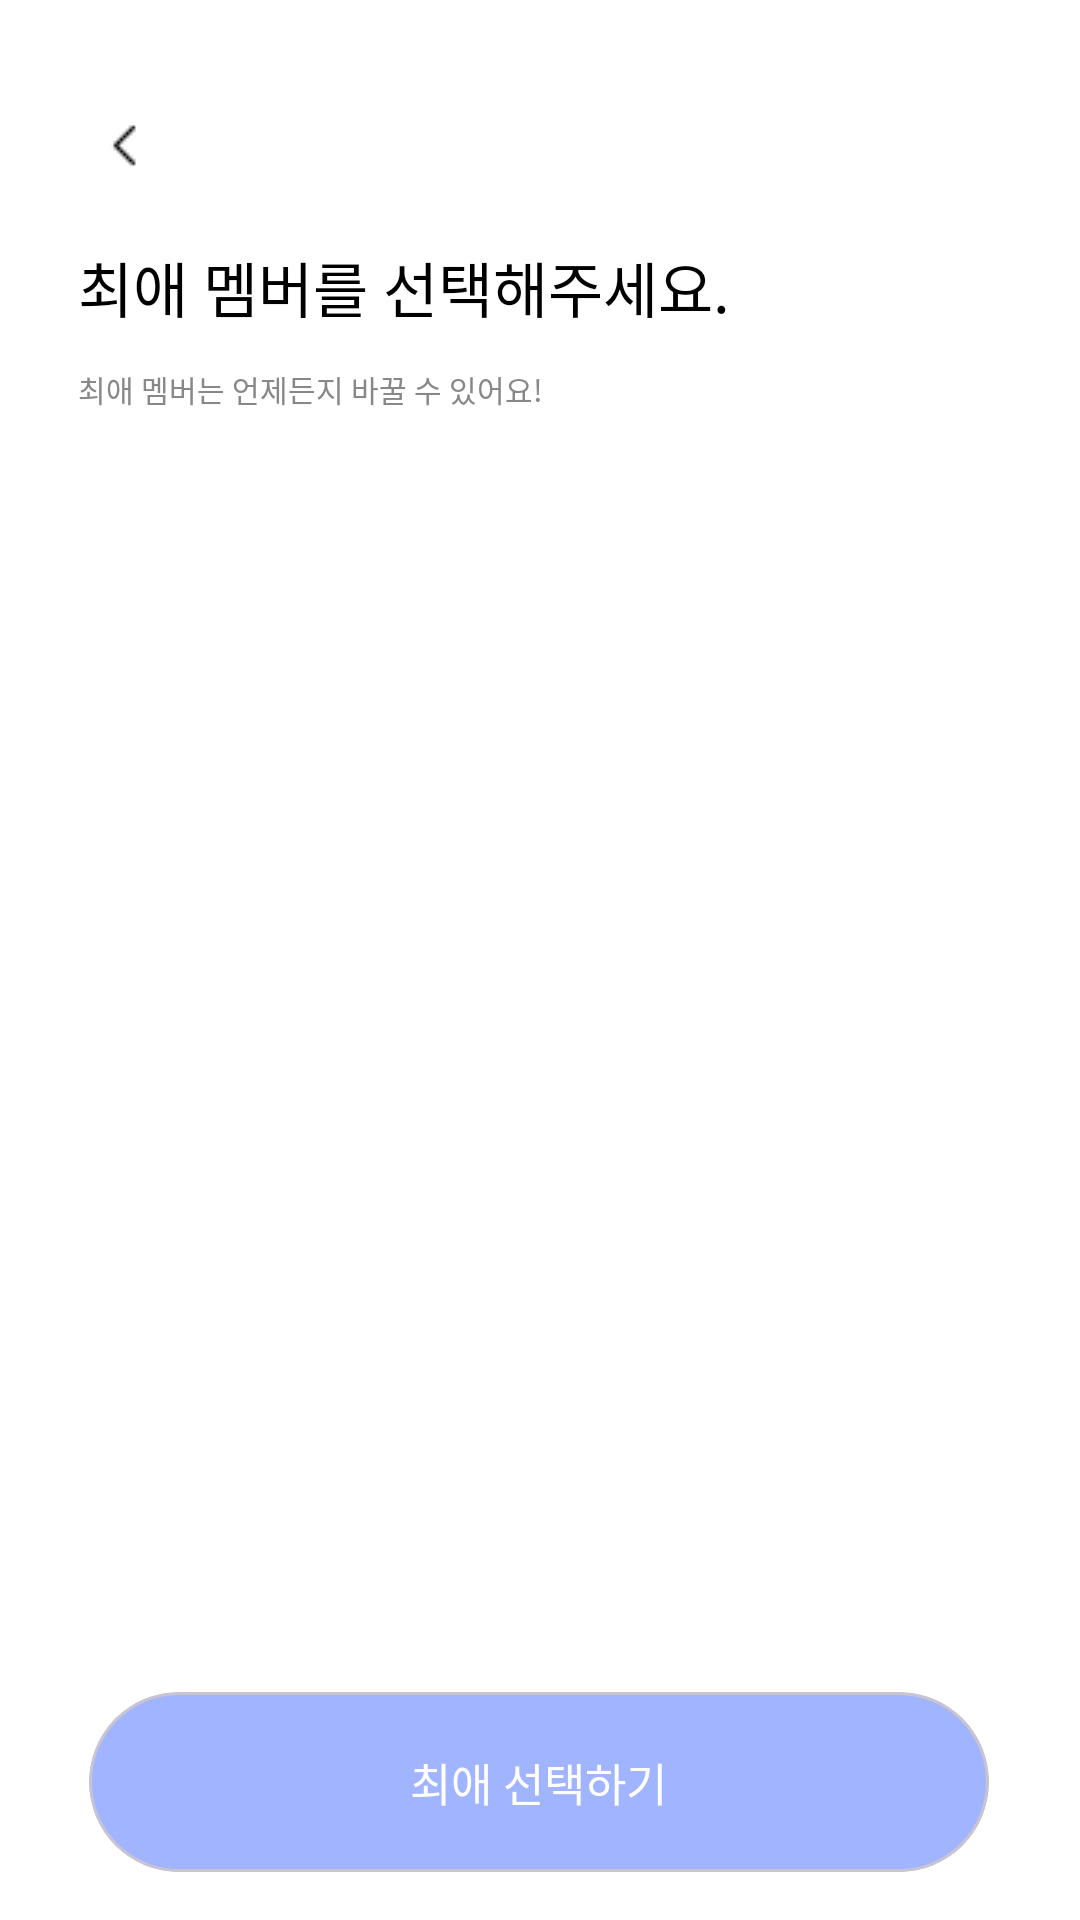

Icon bounding boxes for this 1080w x 1920h phone screenshot, format [x1=x1, y1=y1, x2=x2, y2=y2]:
back: [x1=113, y1=125, x2=136, y2=166]
